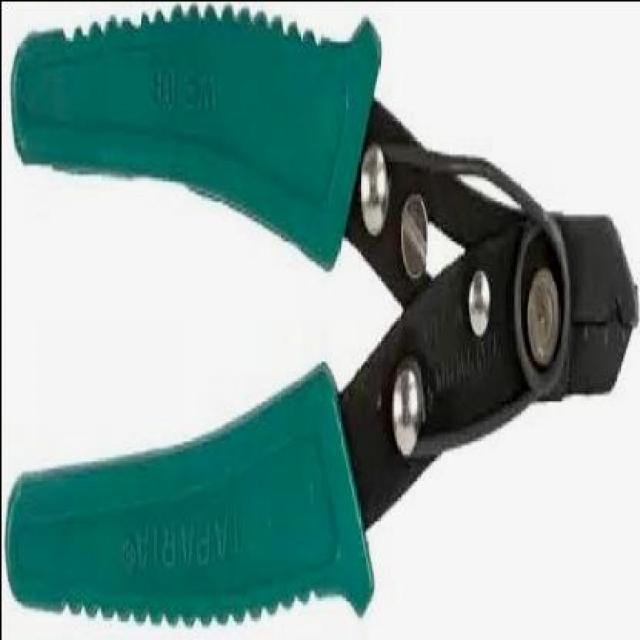pliers: (0, 7, 635, 629)
